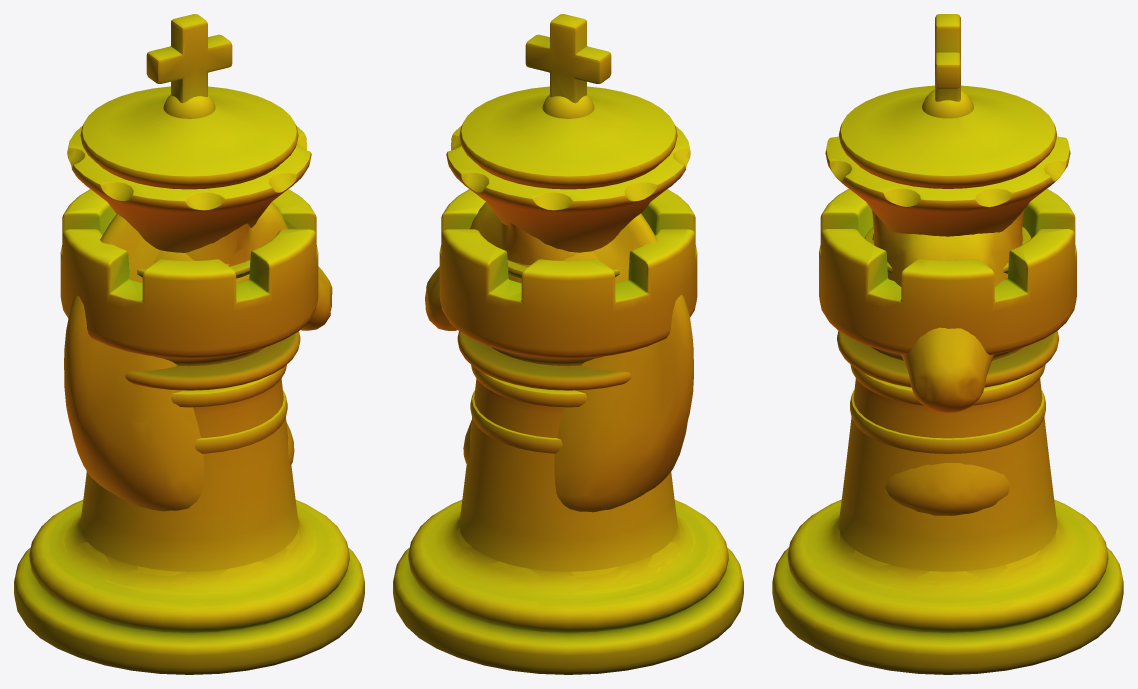
The model's file is pieces-d3-Xawjg.glb.
3 renders of one model, left to right at view 1: azimuth 30°, elevation 25°; view 2: azimuth 150°, elevation 25°; view 3: azimuth 270°, elevation 25°, orthographic.
Visible parts, largest first — view 1: r, n, k, q, b, p; view 2: r, n, k, q, b, p; view 3: r, n, k, q, b, p.
Boxes of the visible parts, left/top/right/bottom form: r: left=14, top=189, right=354, bottom=674; n: left=14, top=202, right=364, bottom=673; k: left=22, top=14, right=362, bottom=674; q: left=15, top=94, right=363, bottom=674; b: left=14, top=250, right=364, bottom=674; p: left=15, top=390, right=358, bottom=674; r: left=403, top=189, right=743, bottom=674; n: left=393, top=202, right=743, bottom=673; k: left=396, top=14, right=732, bottom=674; q: left=394, top=94, right=743, bottom=674; b: left=393, top=251, right=742, bottom=674; p: left=398, top=390, right=740, bottom=674; r: left=772, top=189, right=1123, bottom=674; n: left=773, top=209, right=1122, bottom=673; k: left=773, top=14, right=1121, bottom=674; q: left=773, top=89, right=1122, bottom=671; b: left=774, top=234, right=1118, bottom=674; p: left=773, top=390, right=1122, bottom=672.
Size of the model in its own units: 0.6801 by 1.25 by 0.6801.
